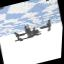drone: (11, 18, 53, 42)
